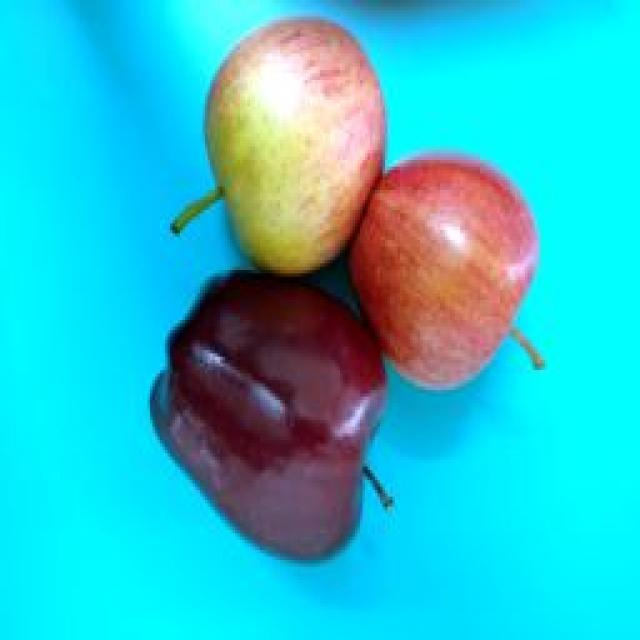Good_Apple: (148, 270, 388, 570), (178, 17, 388, 280), (345, 150, 540, 393)
